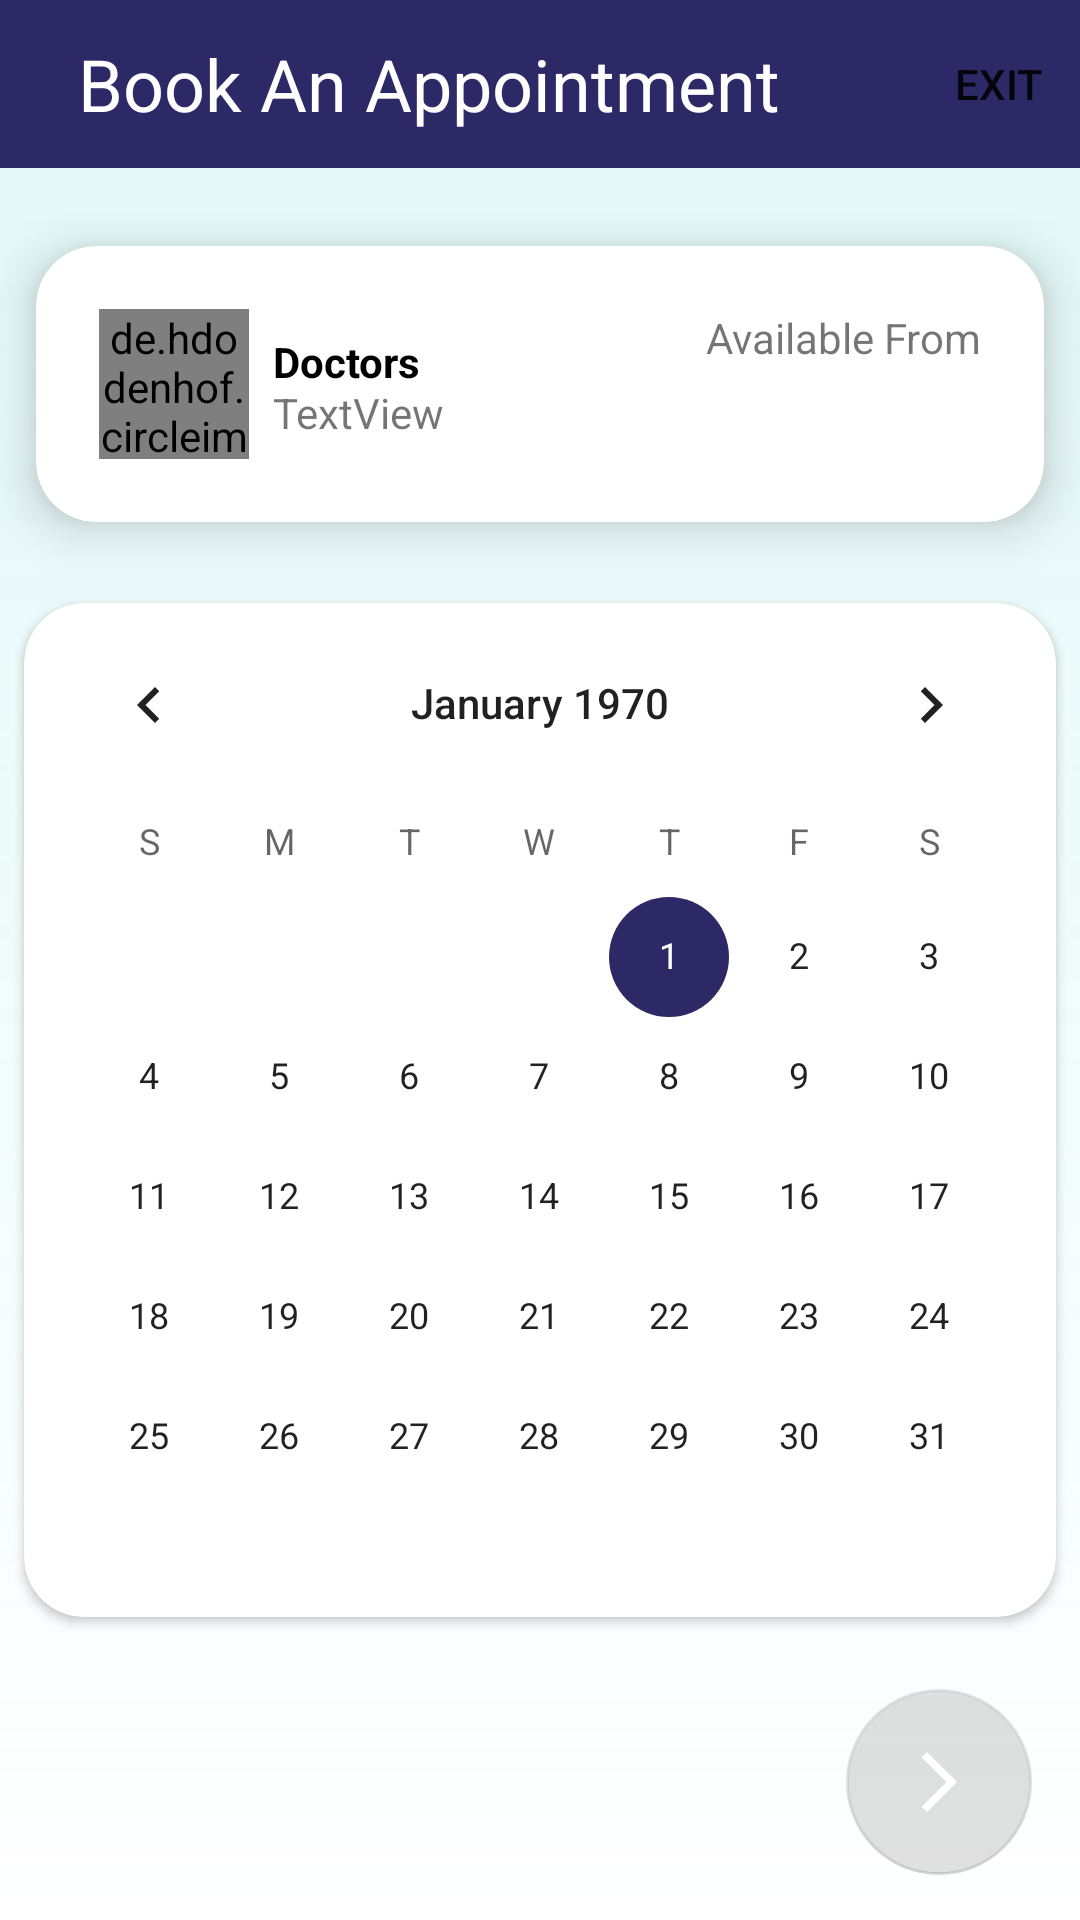

Icon bounding boxes for this 1080px×1920px phone screenshot, format (x1, y1, x2, y2):
next button: (846, 1689, 1032, 1875)
